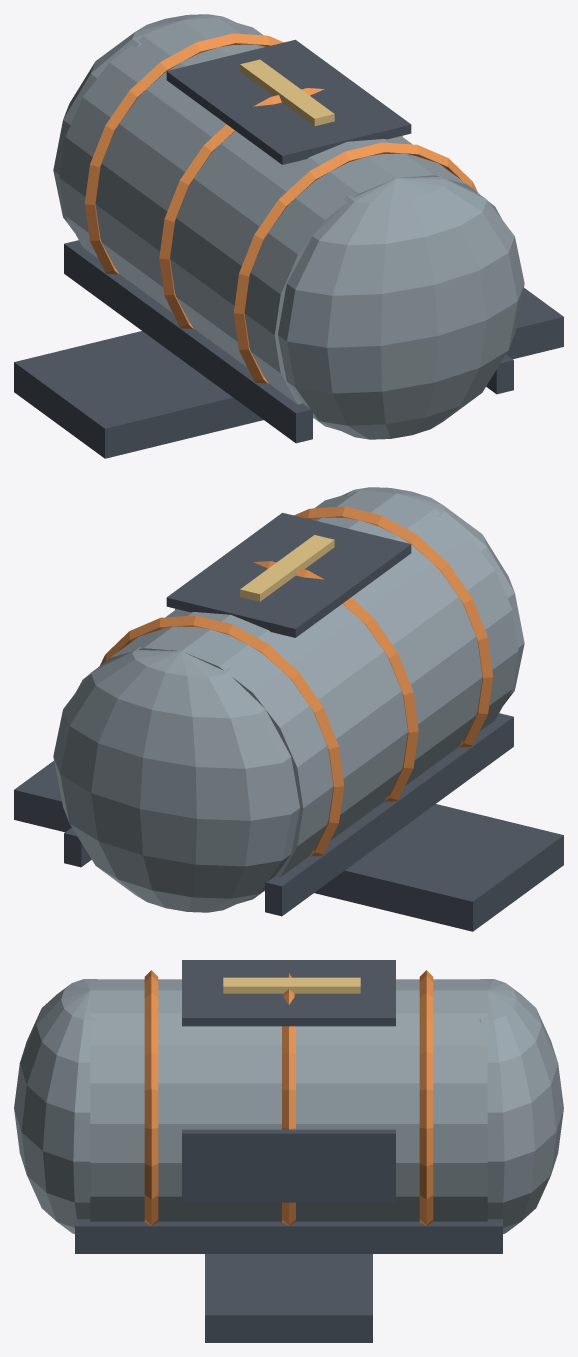
Rendered from sub_cargo_pod.glb.
3 renders of one model, top to bottom at view 1: azimuth 30°, elevation 25°; view 2: azimuth 150°, elevation 25°; view 3: azimuth 270°, elevation 25°, orthographic. The views are drawn at different scales.
Visible parts, largest first — view 1: sub_cargo_pod_hull, sub_cargo_pod_dark, sub_cargo_pod_accent, sub_cargo_pod_brass; view 2: sub_cargo_pod_hull, sub_cargo_pod_dark, sub_cargo_pod_accent, sub_cargo_pod_brass; view 3: sub_cargo_pod_hull, sub_cargo_pod_dark, sub_cargo_pod_accent, sub_cargo_pod_brass.
Boxes of the visible parts, x1,y1,x2,y2 form: sub_cargo_pod_hull: (53,14,524,439); sub_cargo_pod_dark: (14,39,563,458); sub_cargo_pod_accent: (84,33,477,418); sub_cargo_pod_brass: (240,59,334,126); sub_cargo_pod_hull: (53,487,524,912); sub_cargo_pod_dark: (14,512,563,931); sub_cargo_pod_accent: (100,506,493,891); sub_cargo_pod_brass: (240,535,334,601); sub_cargo_pod_hull: (14,979,563,1233); sub_cargo_pod_dark: (75,960,502,1342); sub_cargo_pod_accent: (144,970,433,1225); sub_cargo_pod_brass: (223,977,360,993).
Size of the model in its own units: 3.2 by 1.86 by 3.6.
